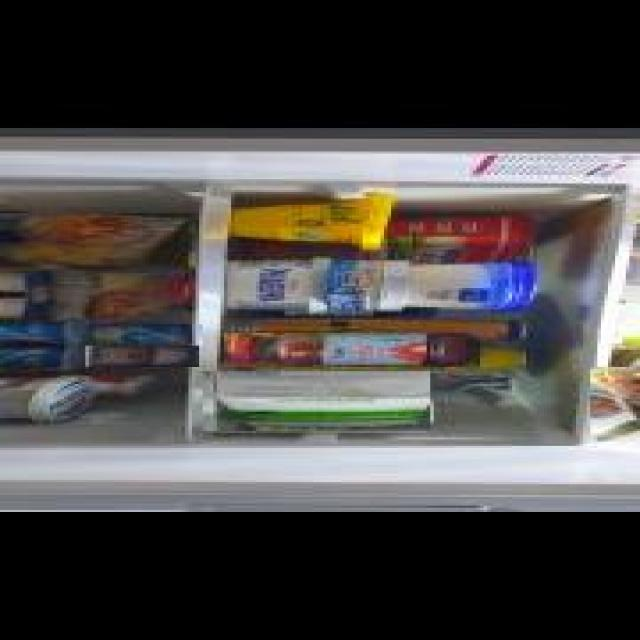butter: (380, 212, 540, 264)
cheese: (329, 259, 407, 313)
grated_cheese: (0, 213, 192, 269), (50, 266, 188, 323)
marmelade: (218, 334, 474, 368)
milk: (199, 372, 427, 432)
sausage: (583, 367, 640, 435)
yogurt: (84, 324, 198, 346), (80, 346, 194, 367), (0, 322, 75, 344)
